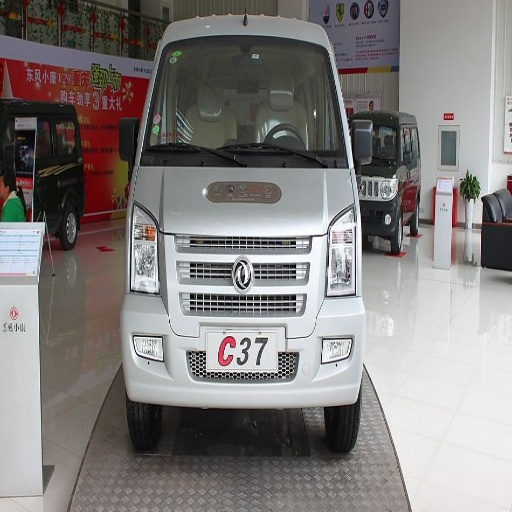front_bumper: (123, 233, 367, 401)
front_right_light: (129, 205, 160, 295)
hood: (133, 165, 353, 264)
